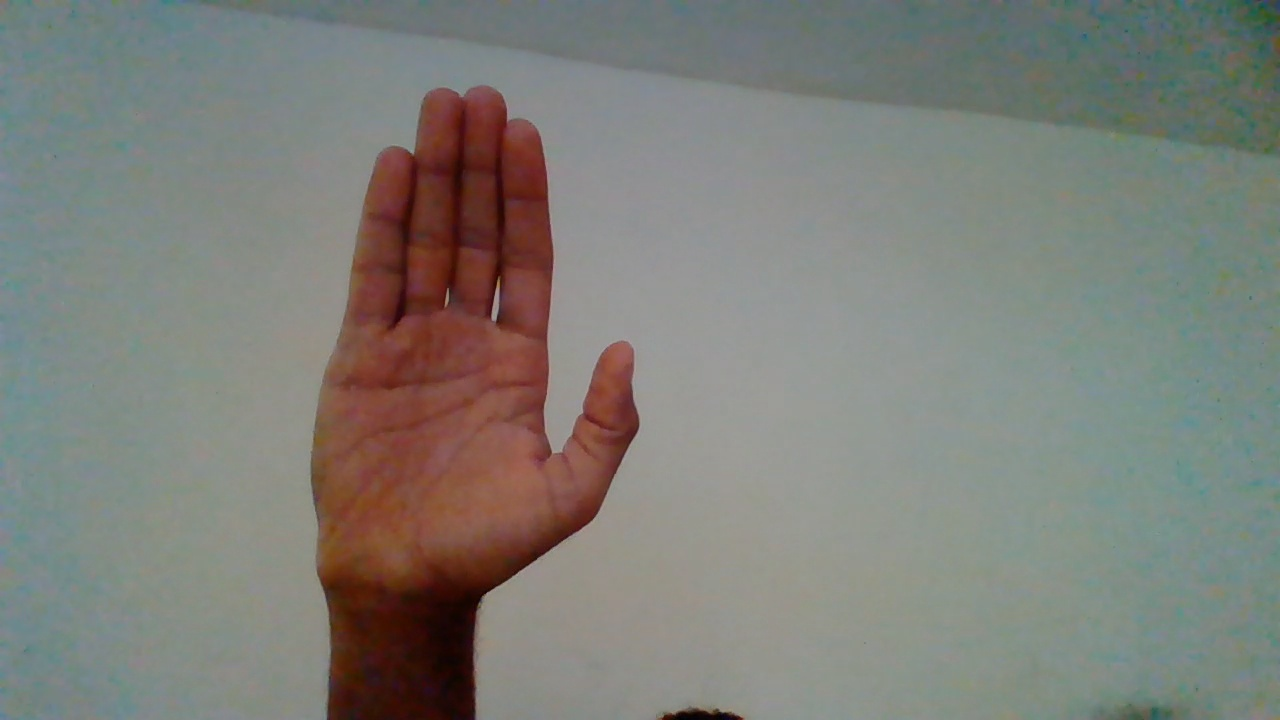ha: (315, 93, 649, 680)
